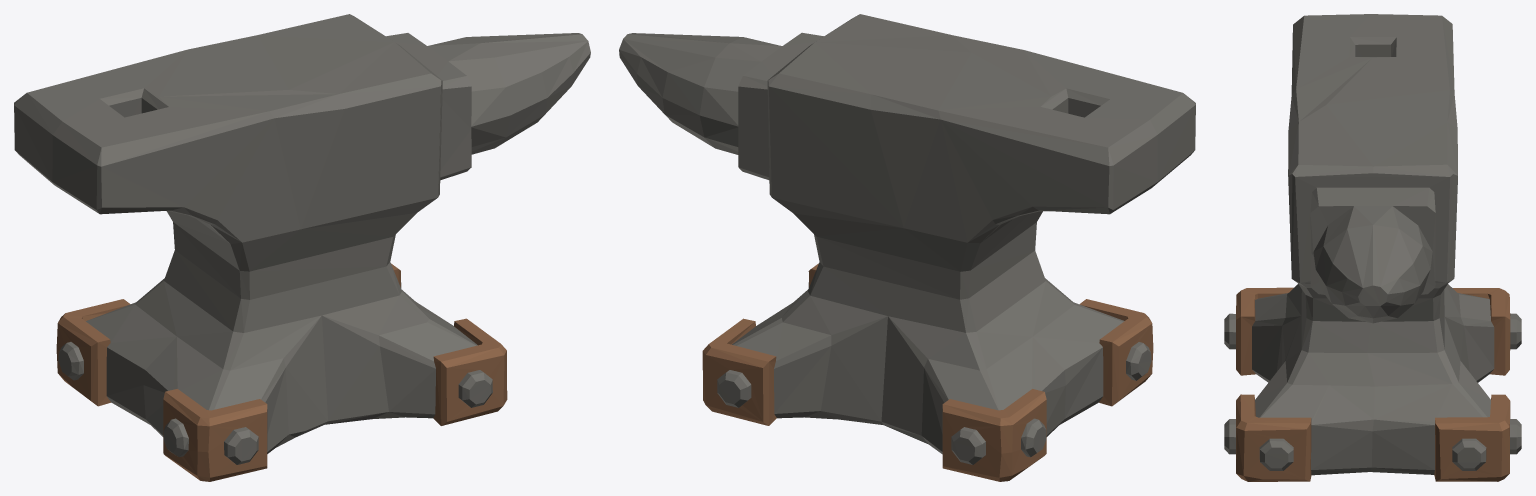
The model's file is BlacksmithAnvil01.fbx.
3 views of the same model, side by side, from view 1: azimuth 30°, elevation 25°; view 2: azimuth 150°, elevation 25°; view 3: azimuth 270°, elevation 25° (orthographic). The views are drawn at different scales.
Visible parts, largest first — view 1: BlacksmithAnvil01; view 2: BlacksmithAnvil01; view 3: BlacksmithAnvil01.
Boxes of the visible parts, x1,y1,x2,y2 form: BlacksmithAnvil01: (14,14,590,481); BlacksmithAnvil01: (619,14,1195,481); BlacksmithAnvil01: (1224,14,1521,481).
Size of the model in its own units: 0.6801 by 0.3591 by 0.4019.
